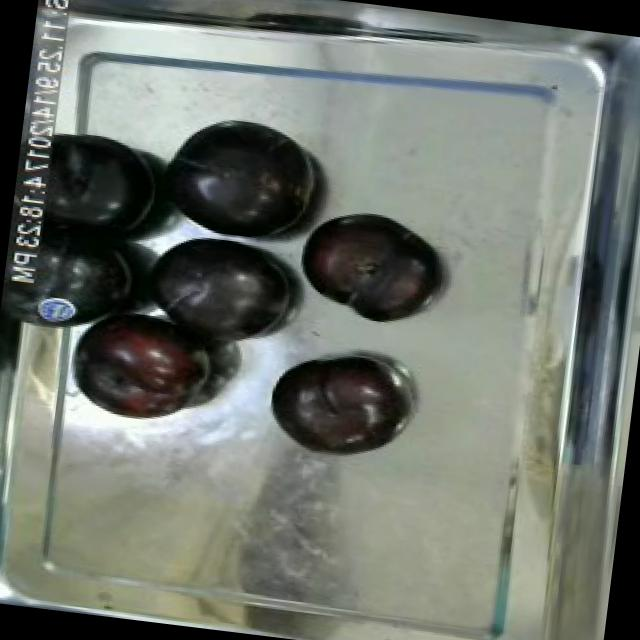Fruit: (141, 105, 326, 252), (127, 220, 305, 364), (283, 196, 448, 334), (60, 298, 224, 435), (256, 338, 414, 469)
